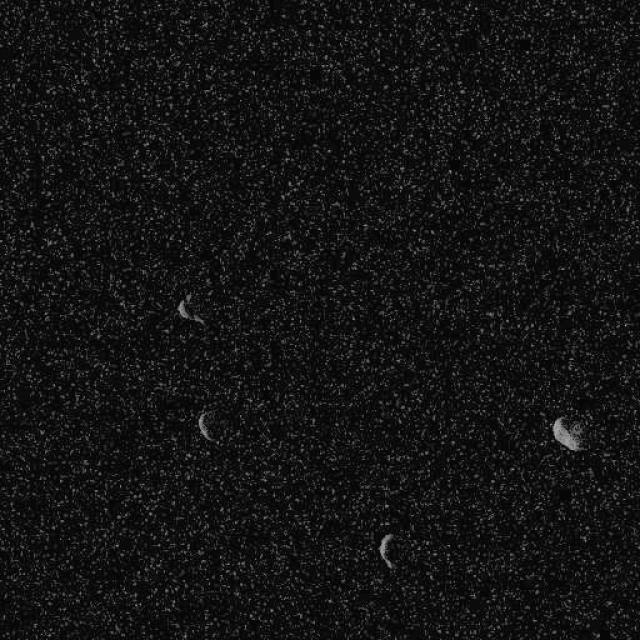D2: (550, 413, 588, 452), (175, 296, 204, 325), (378, 532, 398, 570), (196, 410, 218, 444)
